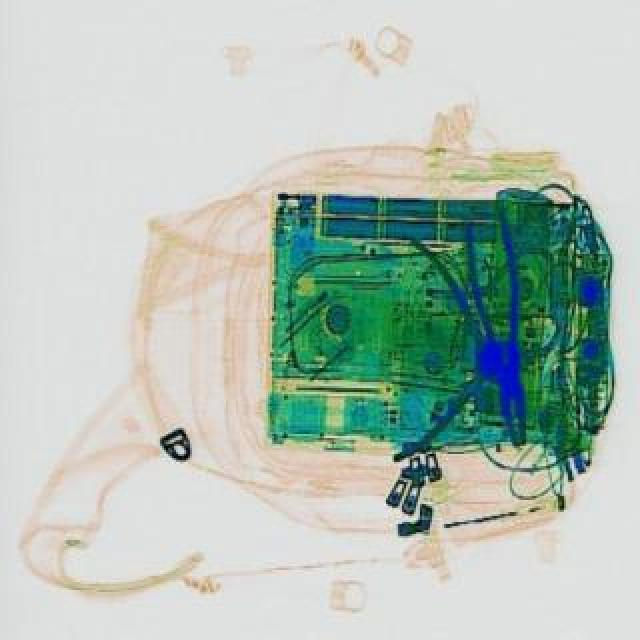wrench: (386, 232, 506, 458), (458, 206, 546, 446)
